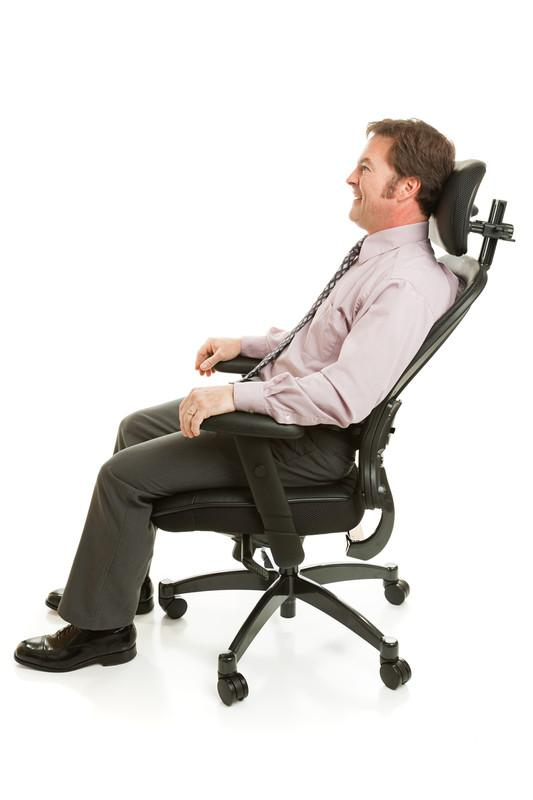Good Sitting Posture: (13, 126, 515, 719)
